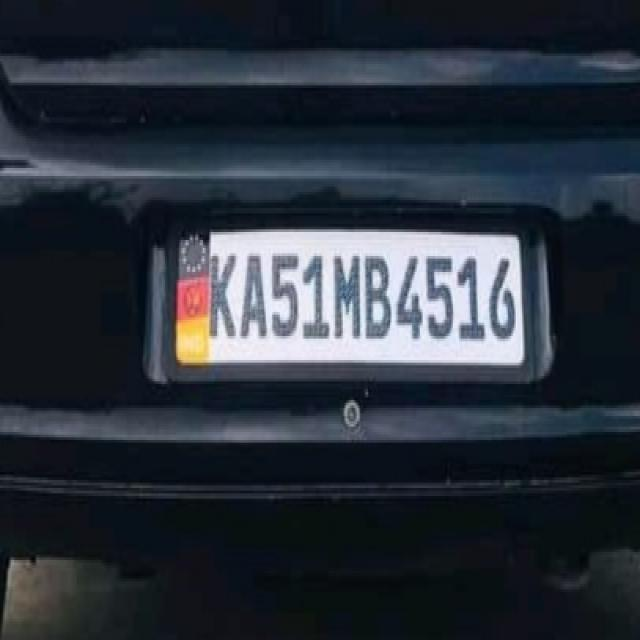1: (299, 240, 331, 356), (454, 252, 488, 350)
4: (395, 250, 423, 347)
5: (423, 246, 455, 345), (272, 247, 298, 345)
6: (490, 252, 516, 351)
A: (240, 252, 267, 350)
B: (361, 245, 396, 342)
K: (207, 252, 236, 340)
M: (329, 247, 364, 345)
